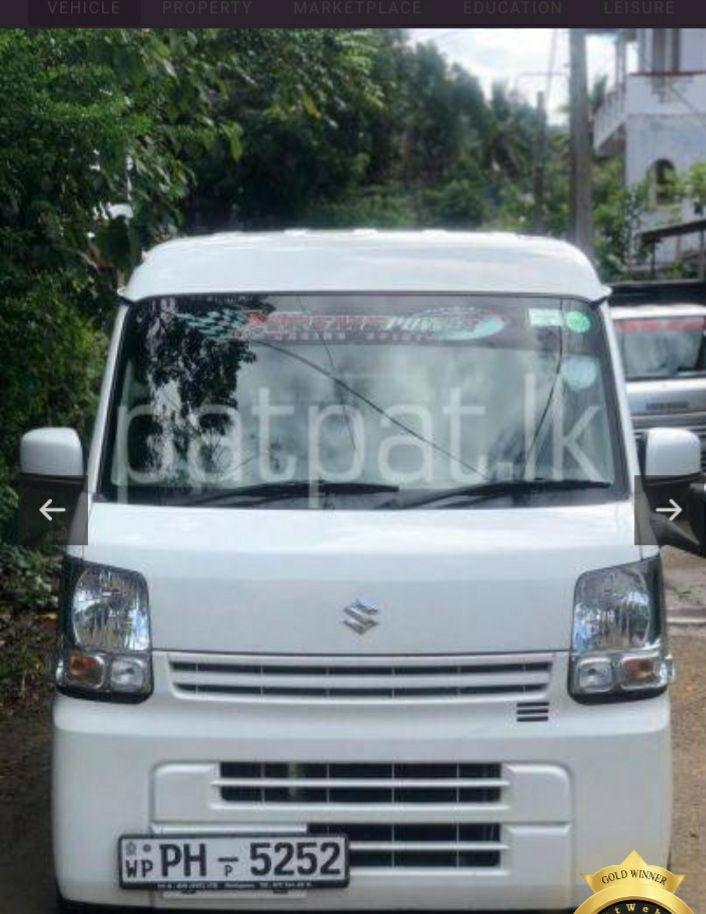license-plate: (118, 838, 343, 881)
